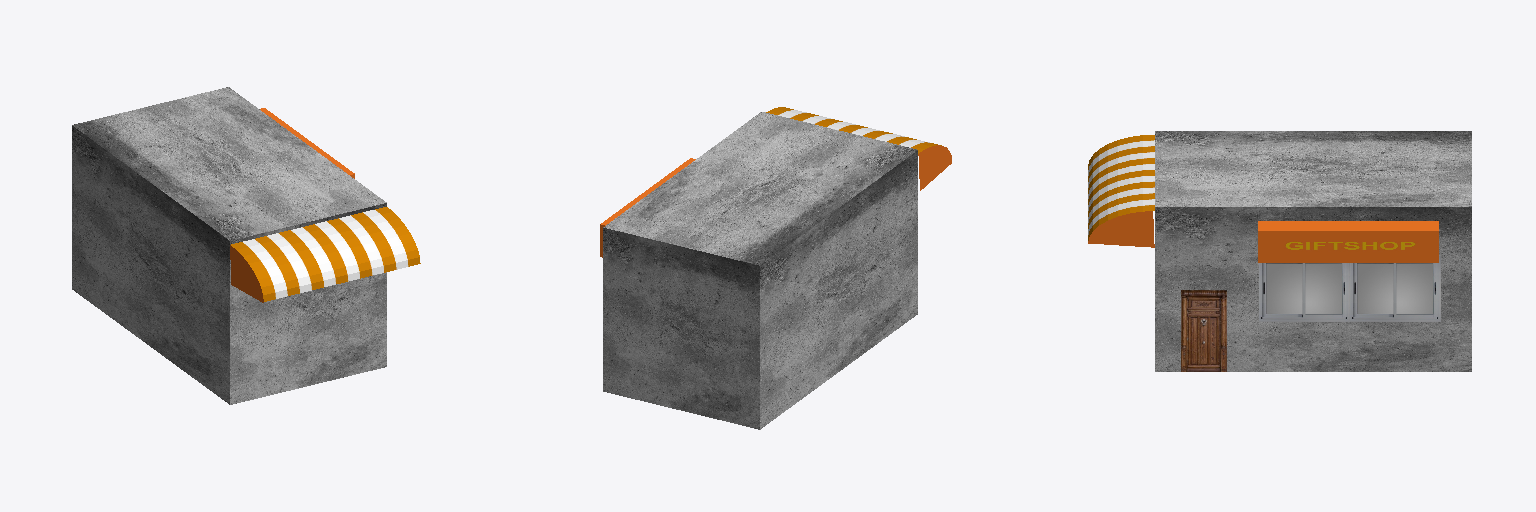
The picture shows the model from 3 angles: view 1: azimuth 30°, elevation 25°; view 2: azimuth 150°, elevation 25°; view 3: azimuth 270°, elevation 25°; orthographic projection.
Parts seen in each view (by area): view 1: Plane.006_Plane.001, Plane.006_Plane.005; view 2: Plane.006_Plane.001, Plane.006_Plane.005, Plane.006_Plane.002; view 3: Plane.006_Plane.001, Plane.006_Plane.002, Plane.006_Plane.005, Plane.006_Plane.004, Plane.006_Plane.003, Plane.006_Plane.007.
Boxes of the visible parts, box(x1,y1,x2,y2) form: Plane.006_Plane.001: box(72, 87, 386, 404); Plane.006_Plane.005: box(230, 207, 420, 302); Plane.006_Plane.001: box(603, 112, 917, 429); Plane.006_Plane.005: box(766, 107, 951, 190); Plane.006_Plane.002: box(600, 158, 695, 257); Plane.006_Plane.001: box(1155, 131, 1471, 371); Plane.006_Plane.002: box(1258, 221, 1438, 262); Plane.006_Plane.005: box(1088, 135, 1154, 247); Plane.006_Plane.004: box(1350, 256, 1440, 321); Plane.006_Plane.003: box(1259, 263, 1349, 321); Plane.006_Plane.007: box(1181, 290, 1226, 371).
Bounding box in the file's own units: 90.06 × 80 × 170.
7 materials, 6 textured.